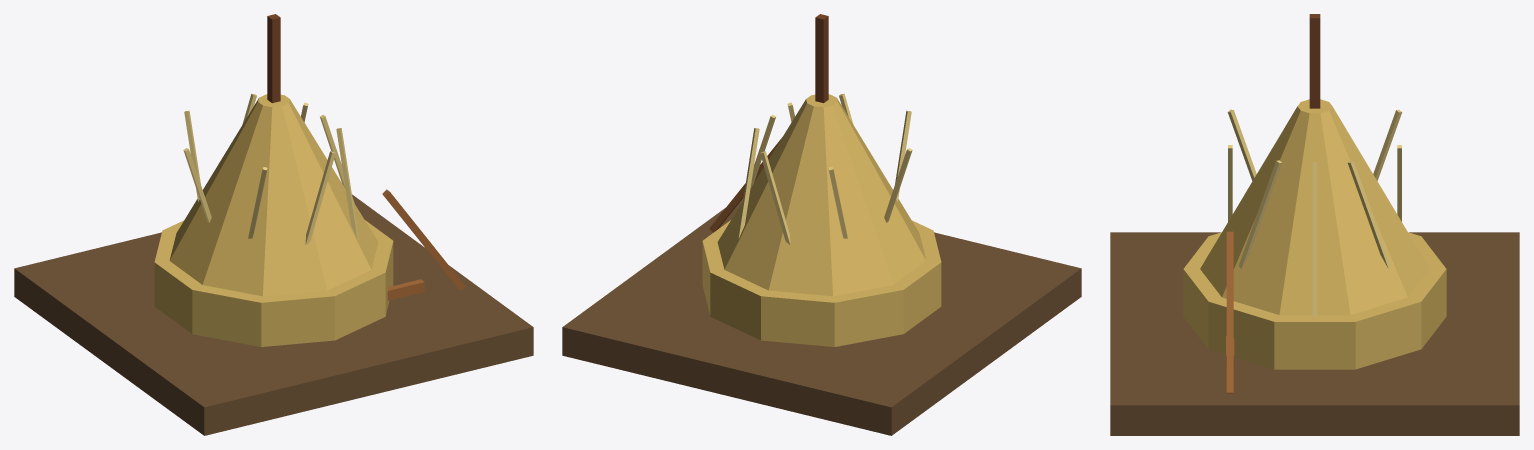
Rendered from haystack.glb.
The picture shows the model from 3 angles, left to right: view 1: azimuth 30°, elevation 25°; view 2: azimuth 150°, elevation 25°; view 3: azimuth 270°, elevation 25°; orthographic projection. The views are drawn at different scales.
Visible parts, largest first — view 1: TerrainBase, HayStack, HayBase, HayPole, HayRakeHandle, HayStrand.007, HayStrand.006, HayRakeHead; view 2: TerrainBase, HayStack, HayBase, HayPole, HayStrand.001, HayStrand.002, HayRakeHandle; view 3: TerrainBase, HayStack, HayBase, HayRakeHandle, HayPole, HayStrand, HayStrand.001, HayStrand.007, HayStrand.003, HayStrand.005.
Part boxes in pixels (box(x1,y1,x2,y2)): TerrainBase: box(14, 194, 533, 435); HayStack: box(169, 94, 378, 296); HayBase: box(154, 220, 393, 346); HayPole: box(267, 14, 280, 103); HayRakeHandle: box(382, 189, 465, 290); HayStrand.007: box(336, 128, 358, 239); HayStrand.006: box(305, 151, 335, 244); HayRakeHead: box(387, 279, 424, 300); TerrainBase: box(562, 199, 1081, 435); HayStack: box(717, 94, 926, 296); HayBase: box(702, 220, 941, 346); HayPole: box(815, 14, 828, 103); HayStrand.001: box(737, 128, 759, 239); HayStrand.002: box(760, 151, 790, 244); HayRakeHandle: box(709, 138, 781, 232); TerrainBase: box(1110, 232, 1519, 435); HayStack: box(1200, 99, 1429, 315); HayBase: box(1183, 232, 1446, 369); HayRakeHandle: box(1226, 231, 1233, 393); HayPole: box(1309, 14, 1320, 108); HayStrand: box(1312, 161, 1317, 315); HayStrand.001: box(1347, 160, 1391, 268); HayStrand.007: box(1238, 160, 1282, 268); HayStrand.003: box(1373, 109, 1402, 180); HayStrand.005: box(1227, 109, 1256, 180).
Bounding box in the file's own units: 7 × 6.29 × 7.
